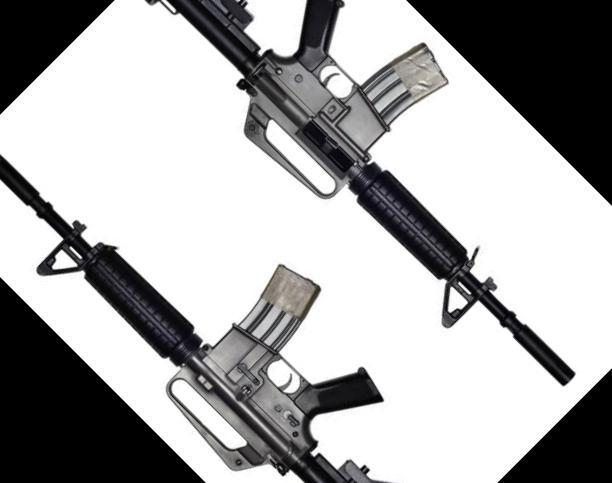larga: (145, 0, 577, 389), (0, 155, 384, 483)
